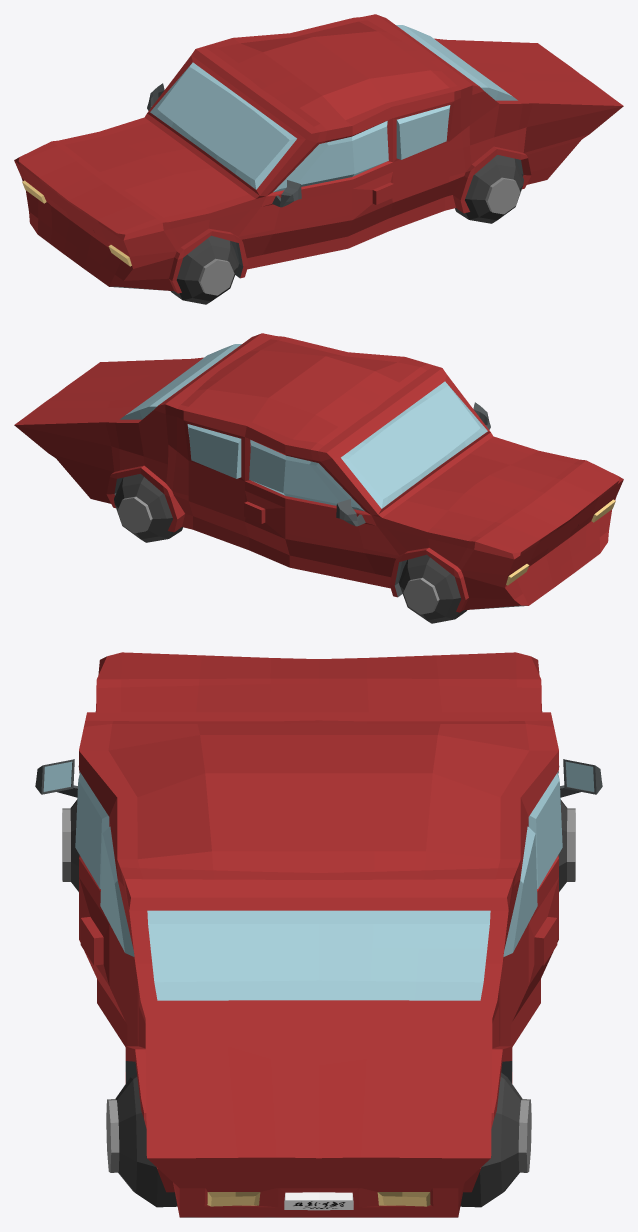
File: model_mustang_basic.fbx
The picture shows the model from 3 angles, top to bottom: view 1: azimuth 30°, elevation 25°; view 2: azimuth 150°, elevation 25°; view 3: azimuth 270°, elevation 25°; orthographic projection. The views are drawn at different scales.
Parts seen in each view (by area): view 1: SM_Mustang_Base, SM_Mustang_Wheels; view 2: SM_Mustang_Base, SM_Mustang_Wheels; view 3: SM_Mustang_Base, SM_Mustang_Wheels.
Boxes of the visible parts, left/top/right/bottom form: SM_Mustang_Base: left=14, top=14, right=623, bottom=293; SM_Mustang_Wheels: left=170, top=155, right=523, bottom=304; SM_Mustang_Base: left=14, top=333, right=623, bottom=612; SM_Mustang_Wheels: left=114, top=474, right=467, bottom=623; SM_Mustang_Base: left=35, top=652, right=602, bottom=1217; SM_Mustang_Wheels: left=62, top=799, right=575, bottom=1207.
Bounding box in the file's own units: 29.77 × 9 × 14.25.
Materials: 2 (2 with a texture image).
